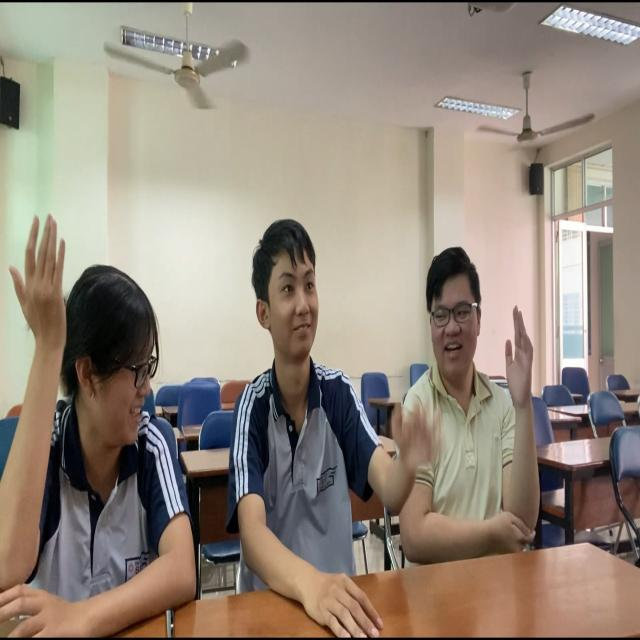raise_hand: (1, 183, 209, 640)
